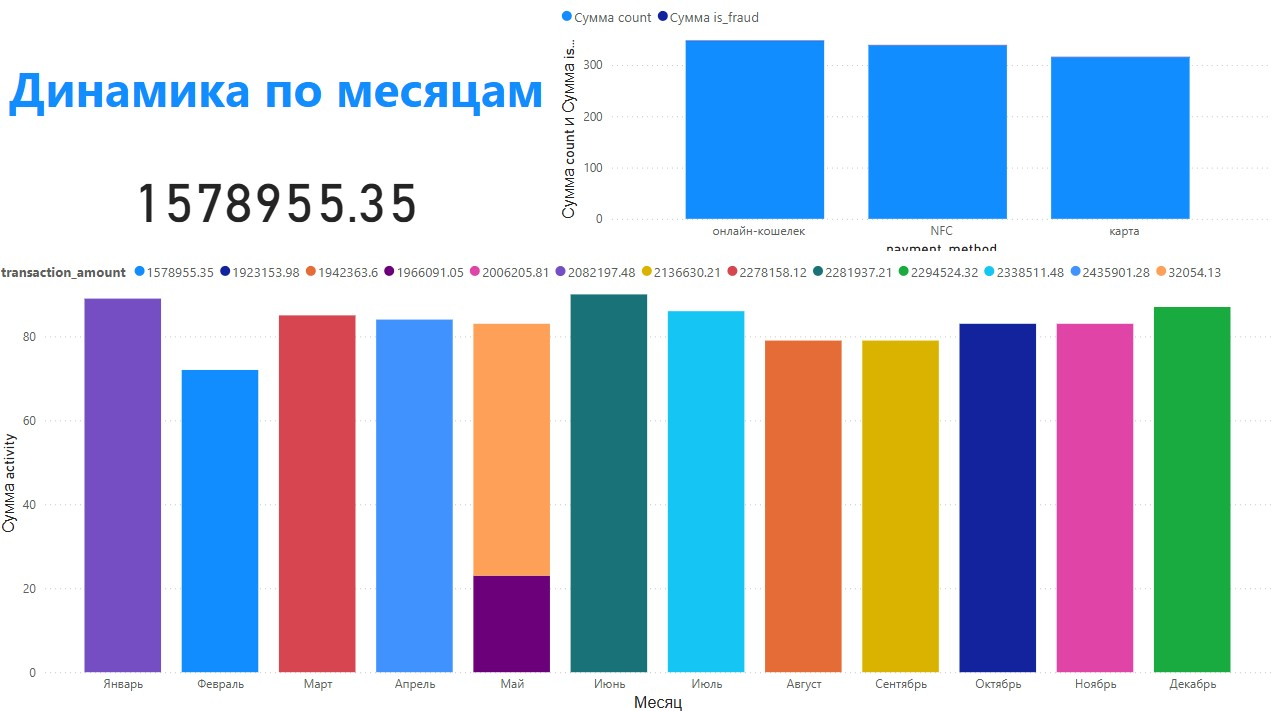

This screenshot's page, from the dashboard's own definition file:
{"tool":"powerbi","page":{"name":"Страница 1","canvas":[1280,720],"ordinal":0},"visuals":[{"type":"columnChart","fields":{"Y":["Sum(fraud_by_method.count)","Sum(fraud_by_method.is_fraud)"],"Category":["fraud_by_method.payment_method"]},"box":[560,0,720,266.7],"z":0},{"type":"columnChart","fields":{"Category":["monthly_summary_with_activity.month.Изменение.Иерархия дат.Месяц"],"Y":["Sum(monthly_summary_with_activity.activity)"],"Series":["monthly_summary_with_activity.transaction_amount"]},"box":[0,255,1280,465],"z":2000},{"type":"card","fields":{"Values":["Min(monthly_summary_with_activity.transaction_amount)"]},"box":[0,133.3,560,133.3],"z":2001},{"type":"textbox","box":[0,0,560,133.3],"z":2002}]}

Visuals, with their boxes in screenshot pixels (x1, y1, x2, y2), scaled from the page's 1280x720 canvas onto the 1273x711 screenshot:
columnChart - Sum(fraud_by_method.count) x Sum(fraud_by_method.is_fraud): BBox(557, 0, 1272, 263)
columnChart - monthly_summary_with_activity.month.Изменение.Иерархия дат.Месяц x Sum(monthly_summary_with_activity.activity): BBox(0, 252, 1272, 710)
card - Min(monthly_summary_with_activity.transaction_amount): BBox(0, 132, 557, 263)
textbox: BBox(0, 0, 557, 132)
